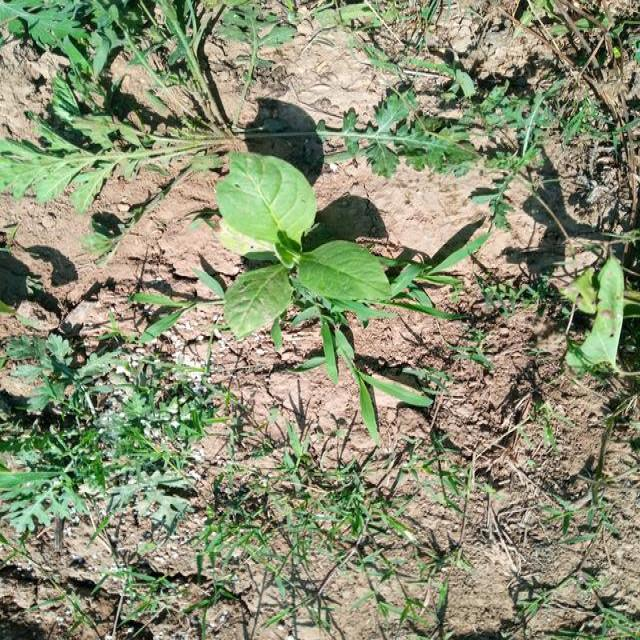crop: (223, 142, 381, 336)
